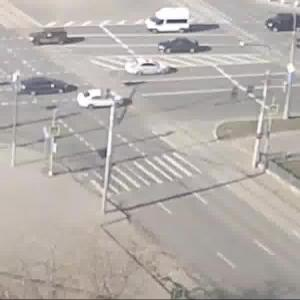car: (146, 10, 198, 35), (26, 29, 77, 51), (19, 77, 68, 99), (124, 57, 169, 80), (82, 88, 122, 110), (155, 41, 209, 56), (266, 12, 300, 34)
